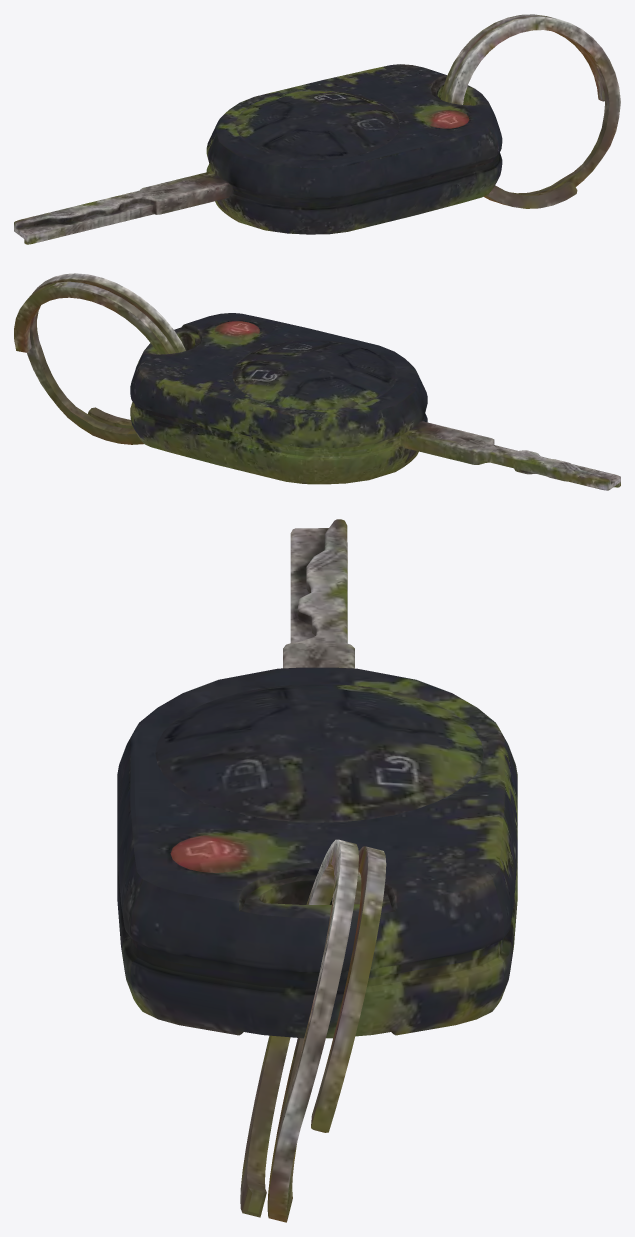
File: s_llaves_coche.glb
The picture shows the model from 3 angles, top to bottom: view 1: azimuth 30°, elevation 25°; view 2: azimuth 150°, elevation 25°; view 3: azimuth 270°, elevation 25°; orthographic projection. The views are drawn at different scales.
Parts seen in each view (by area): view 1: defaultMaterial; view 2: defaultMaterial; view 3: defaultMaterial.
Part boxes in pixels (x1,y1,x2,y2): defaultMaterial: (14,14,620,244); defaultMaterial: (14,273,620,490); defaultMaterial: (117,519,517,1222).
Size of the model in its own units: 0.12 by 0.0337 by 0.0351.
Materials: 2 (2 with a texture image).
